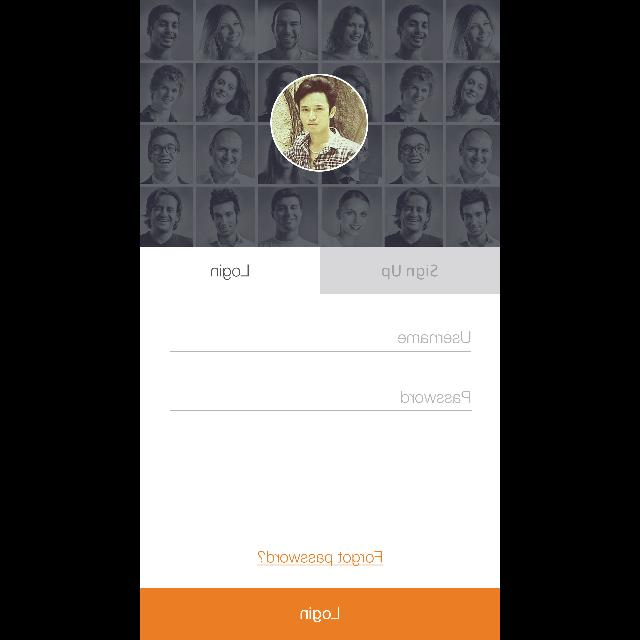image: (140, 1, 500, 247), (270, 74, 368, 172)
input: (170, 331, 470, 353), (170, 391, 472, 412)
text: (257, 550, 383, 566), (398, 331, 470, 344), (400, 391, 470, 404), (211, 264, 249, 280)
textbutton: (140, 588, 500, 640), (320, 246, 500, 294)
